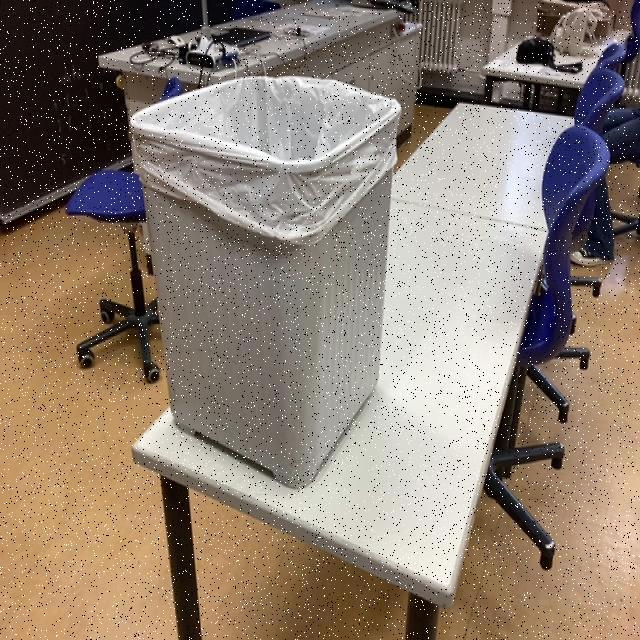garbage container: (104, 42, 412, 508)
